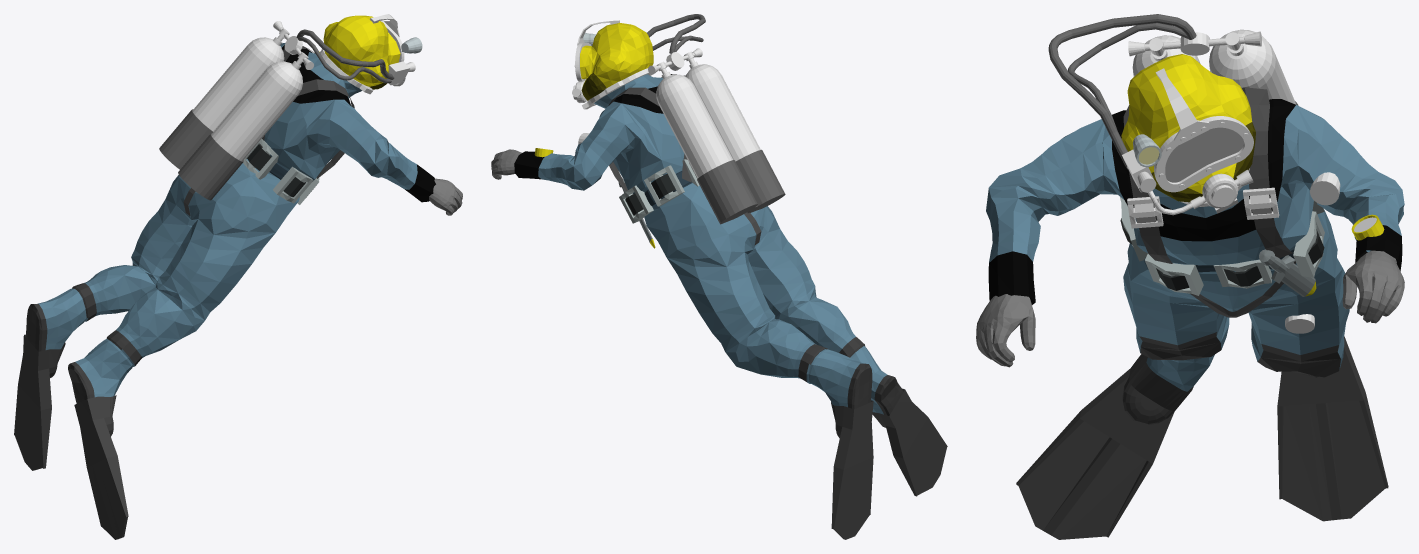
Rendered from diver.dae.
The picture shows the model from 3 angles, left to right: view 1: azimuth 30°, elevation 25°; view 2: azimuth 150°, elevation 25°; view 3: azimuth 270°, elevation 25°; orthographic projection. The views are drawn at different scales.
Visible parts, largest first — view 1: Camera; view 2: Camera; view 3: Camera.
Part boxes in pixels (x1,y1,x2,y2): Camera: (14, 14, 462, 539); Camera: (491, 14, 947, 539); Camera: (976, 14, 1404, 539).
Bounding box in the file's own units: 2.53 × 1.59 × 2.89.
